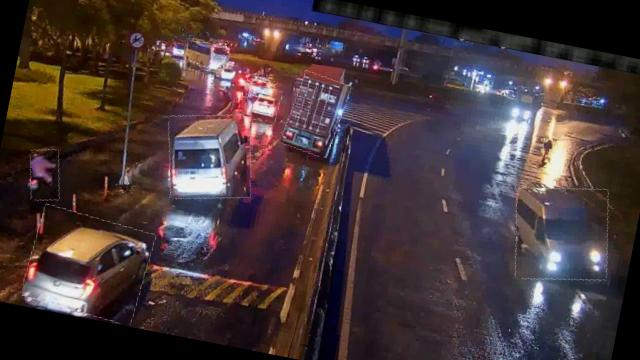Bike: (23, 146, 65, 204), (539, 136, 557, 164)
Bus: (505, 176, 620, 290), (158, 105, 261, 208), (184, 38, 228, 74), (243, 84, 282, 124)
Car: (20, 204, 155, 324), (242, 74, 275, 102), (215, 62, 239, 81)
Truck: (282, 70, 350, 158)
